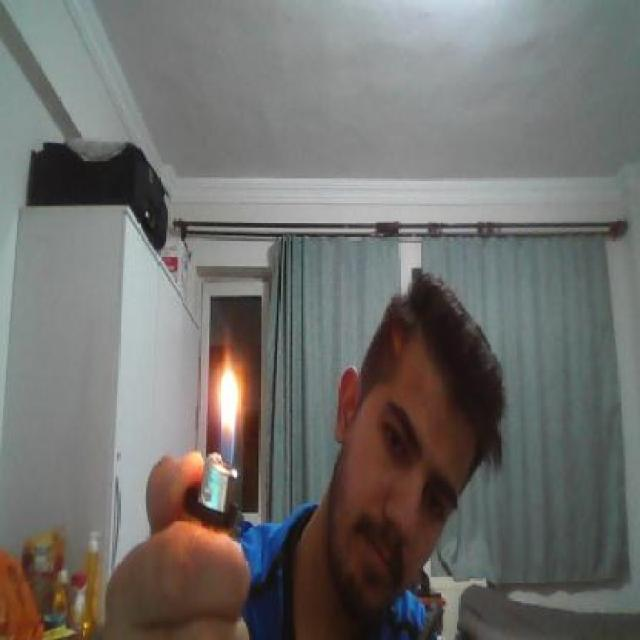Fire: (208, 330, 251, 464)
